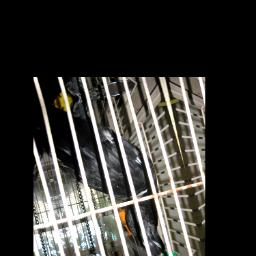Crow: (34, 84, 176, 256)
